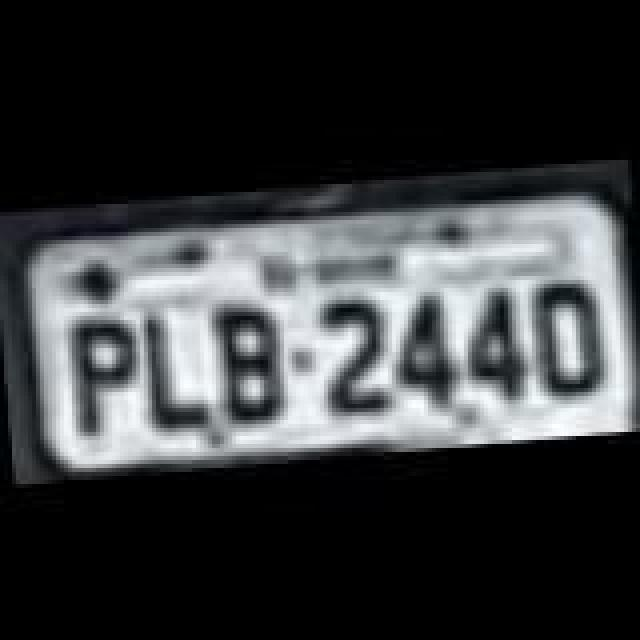2: (316, 288, 404, 416)
4: (448, 276, 536, 412), (384, 282, 464, 414)
B: (206, 292, 290, 428)
L: (134, 302, 218, 434)
O: (522, 272, 614, 400)
P: (58, 312, 150, 440)
